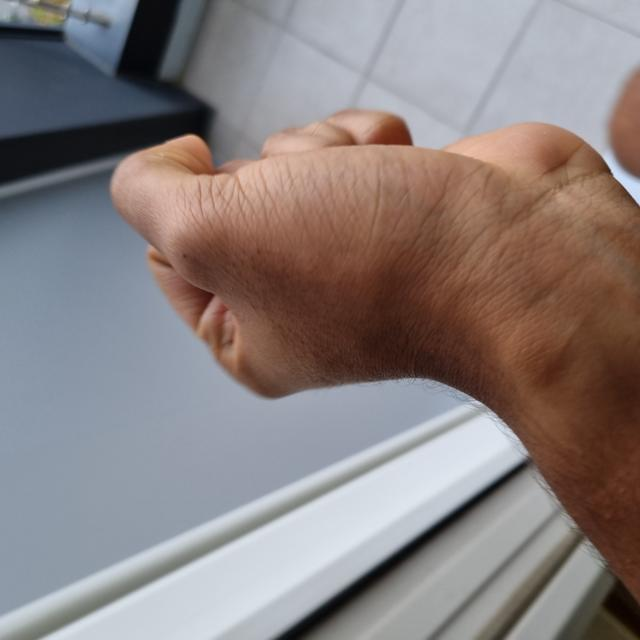Rock: (236, 109, 530, 639)
